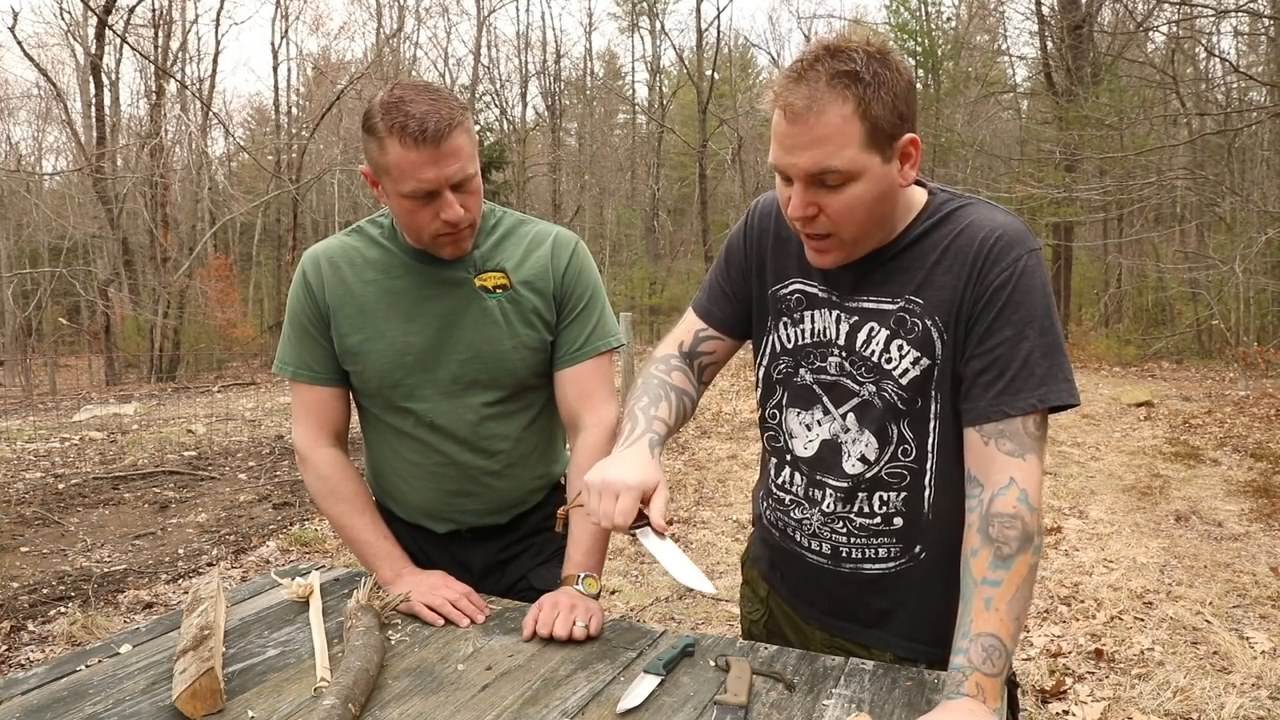knife: (580, 467, 732, 613)
